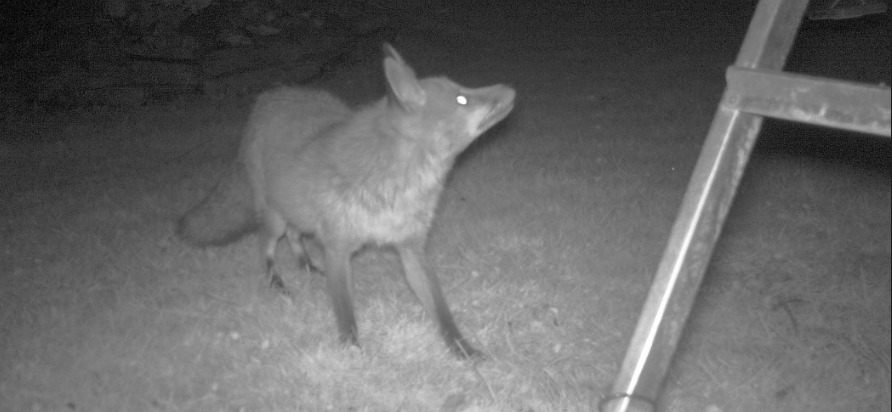fox: (159, 31, 541, 381)
